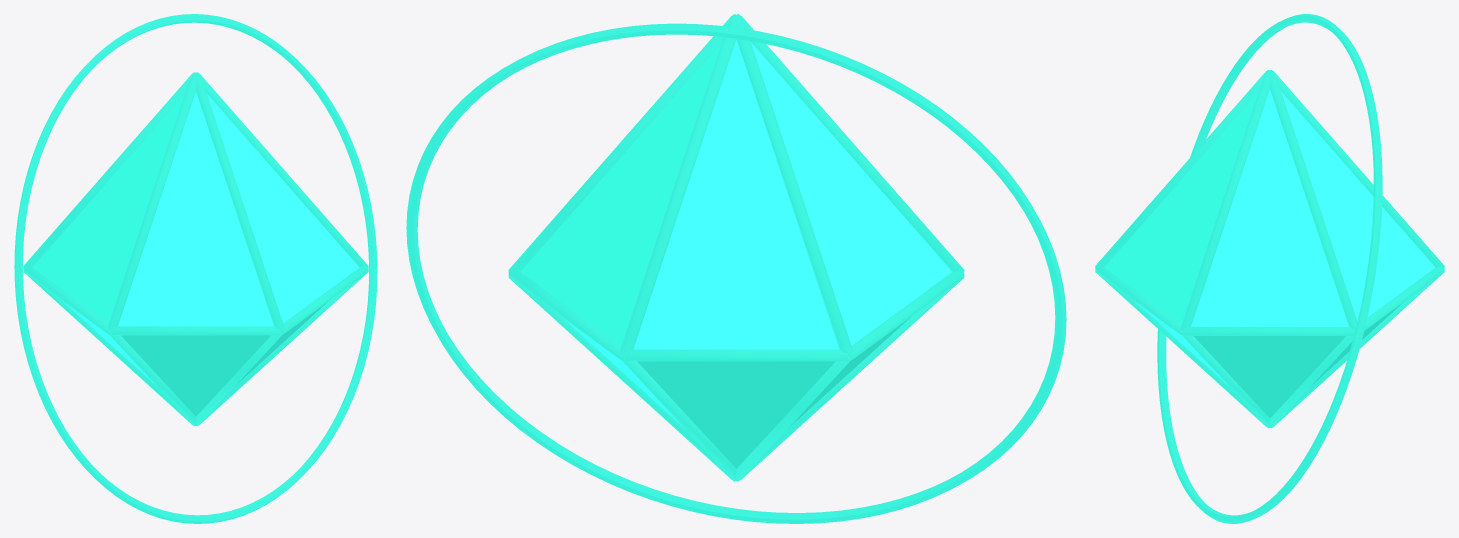
The model's file is emblem.glb.
3 views of the same model, side by side, from view 1: azimuth 30°, elevation 25°; view 2: azimuth 150°, elevation 25°; view 3: azimuth 270°, elevation 25° (orthographic). The views are drawn at different scales.
Parts seen in each view (by area): view 1: Emblem_Gem, Emblem_Edges, Emblem_Ring; view 2: Emblem_Gem, Emblem_Edges, Emblem_Ring; view 3: Emblem_Gem, Emblem_Edges, Emblem_Ring.
Boxes of the visible parts, x1,y1,x2,y2 form: Emblem_Gem: [32, 92, 359, 416]; Emblem_Edges: [23, 72, 368, 426]; Emblem_Ring: [14, 14, 377, 523]; Emblem_Gem: [520, 39, 952, 468]; Emblem_Edges: [508, 14, 964, 481]; Emblem_Ring: [406, 23, 1066, 523]; Emblem_Gem: [1104, 89, 1435, 417]; Emblem_Edges: [1095, 70, 1444, 428]; Emblem_Ring: [1157, 14, 1382, 523].
Size of the model in its own units: 1.79 by 1.78 by 1.27.
